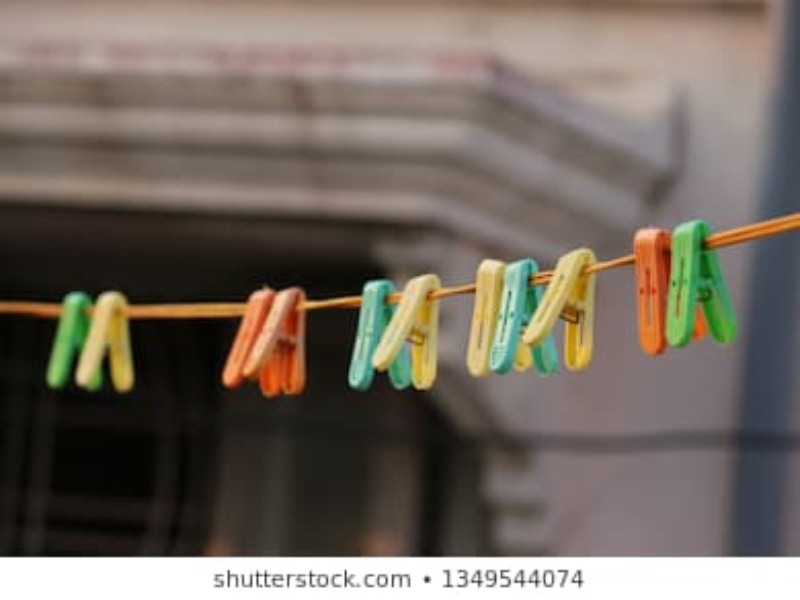plastic-peg: (528, 240, 603, 377), (667, 216, 734, 360), (371, 270, 450, 391), (490, 255, 560, 380), (349, 278, 419, 396), (242, 283, 315, 396), (632, 223, 678, 360), (78, 286, 134, 396), (223, 288, 277, 395), (49, 290, 95, 399), (467, 254, 503, 379)
